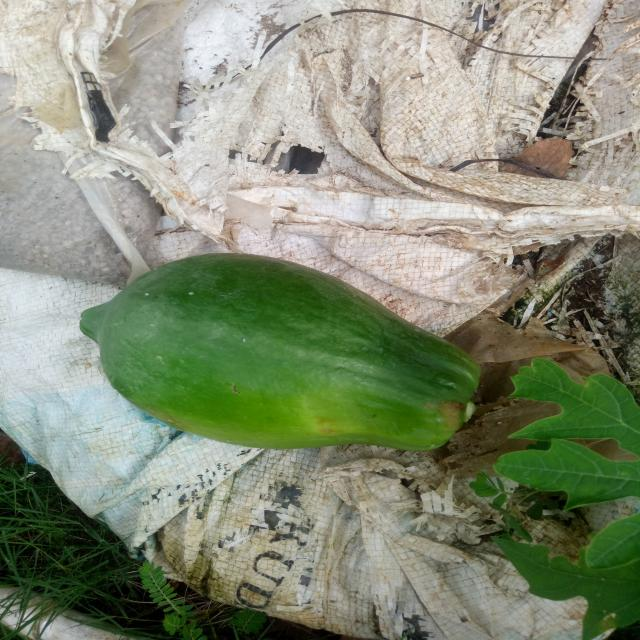Pepaya unrippen: (67, 252, 480, 456)
